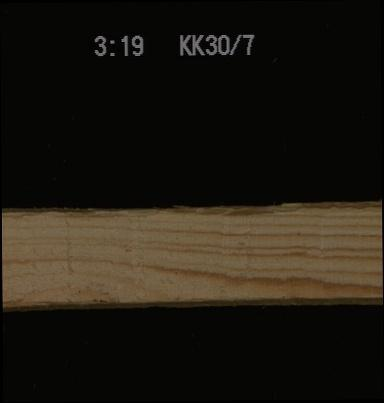wave: (1, 200, 382, 218), (7, 285, 112, 311)
